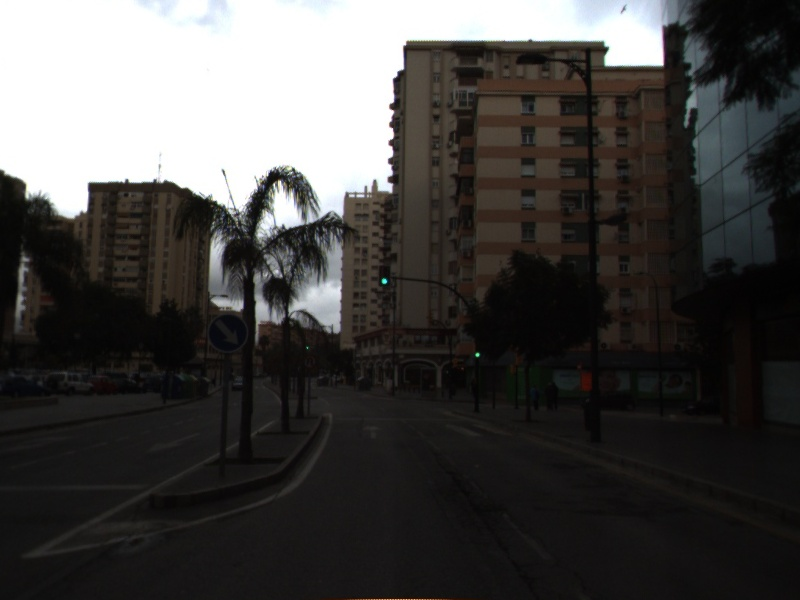STRAIGHT: (360, 423, 387, 441)
